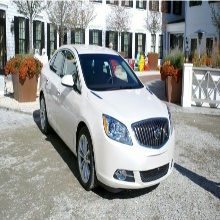no damage: (37, 43, 175, 194)
